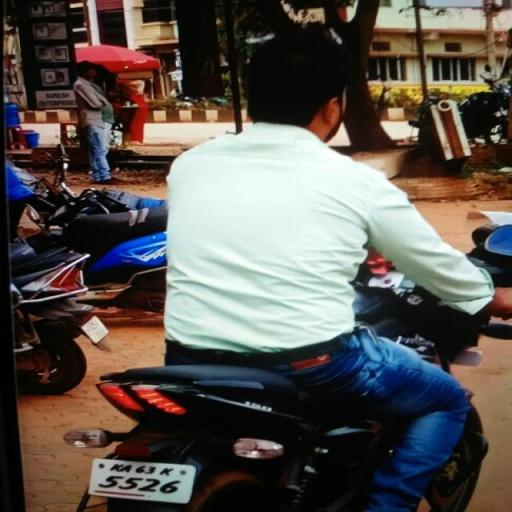bike: (47, 31, 511, 512)
numberplate: (89, 456, 201, 510)
withouthelmet: (247, 34, 343, 128), (246, 124, 252, 131)
